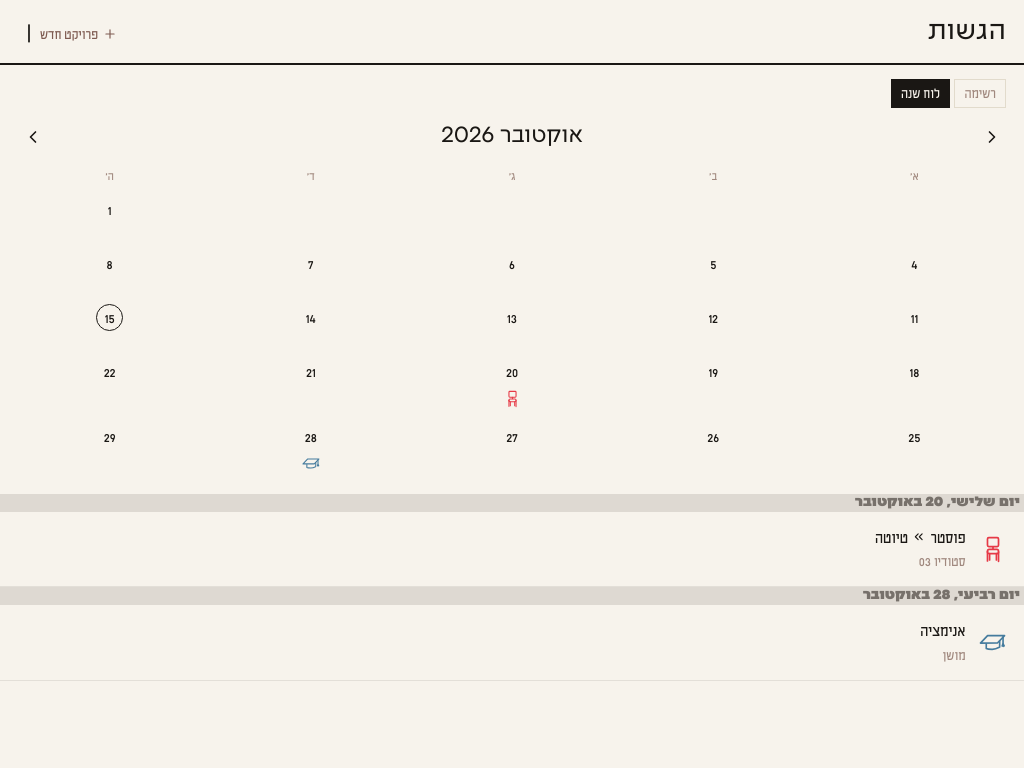
Test: ProjectCalendar screen › shows an empty state for a day with nothing due
Click the button named "יום שלישי, 6 באוקטובר".
click(512, 270)  # box top-left (411, 242), bottom-right (613, 296)
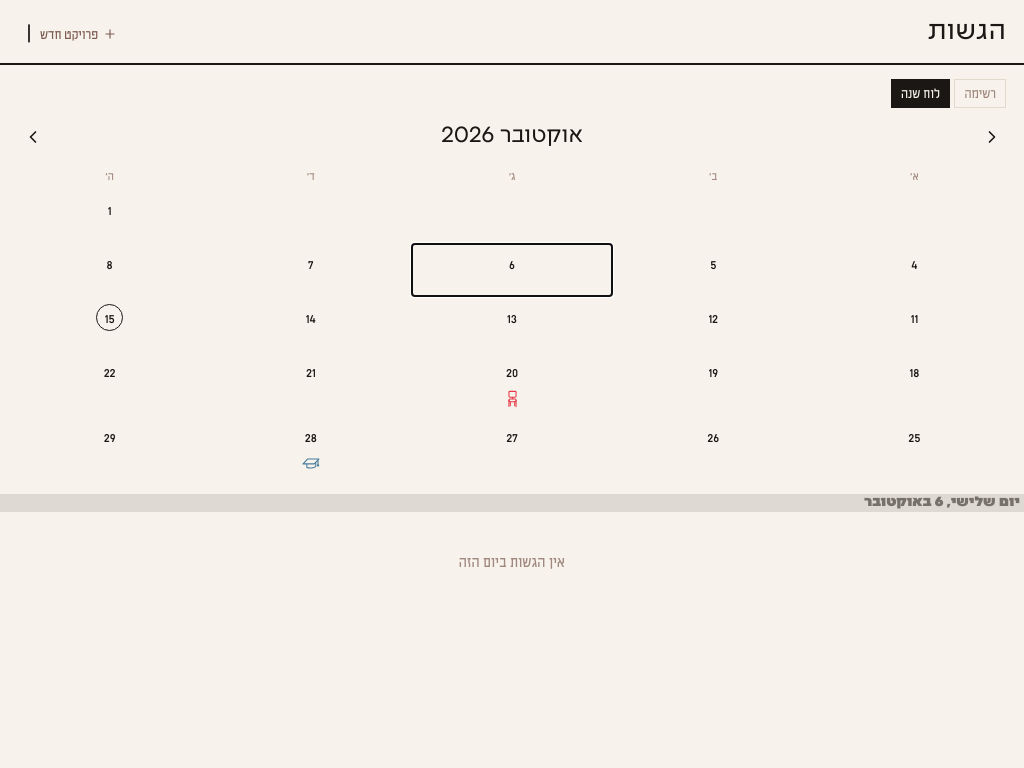
Now the text "אין הגשות ביום הזה" is shown, box top-left (459, 550), bottom-right (565, 572)
